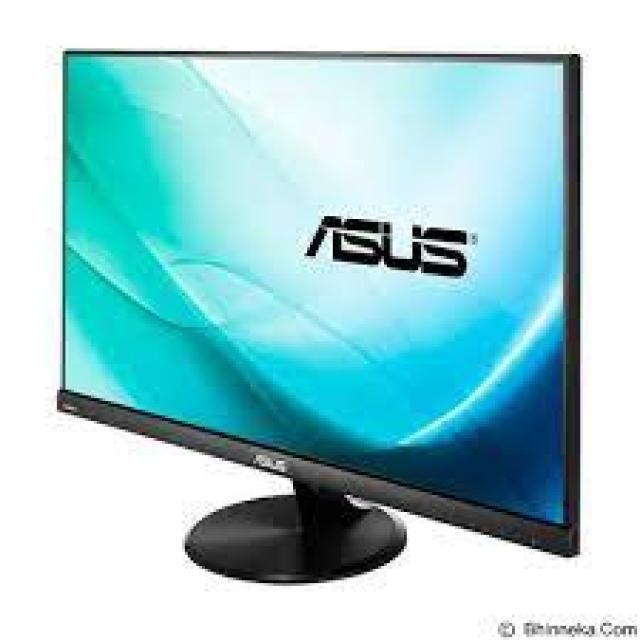monitor: (25, 25, 627, 626)
